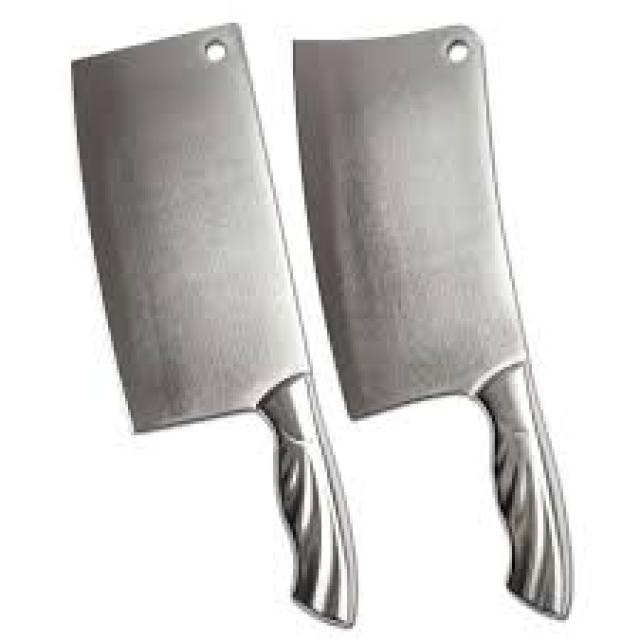Knife: (68, 26, 356, 626), (296, 23, 572, 617)
